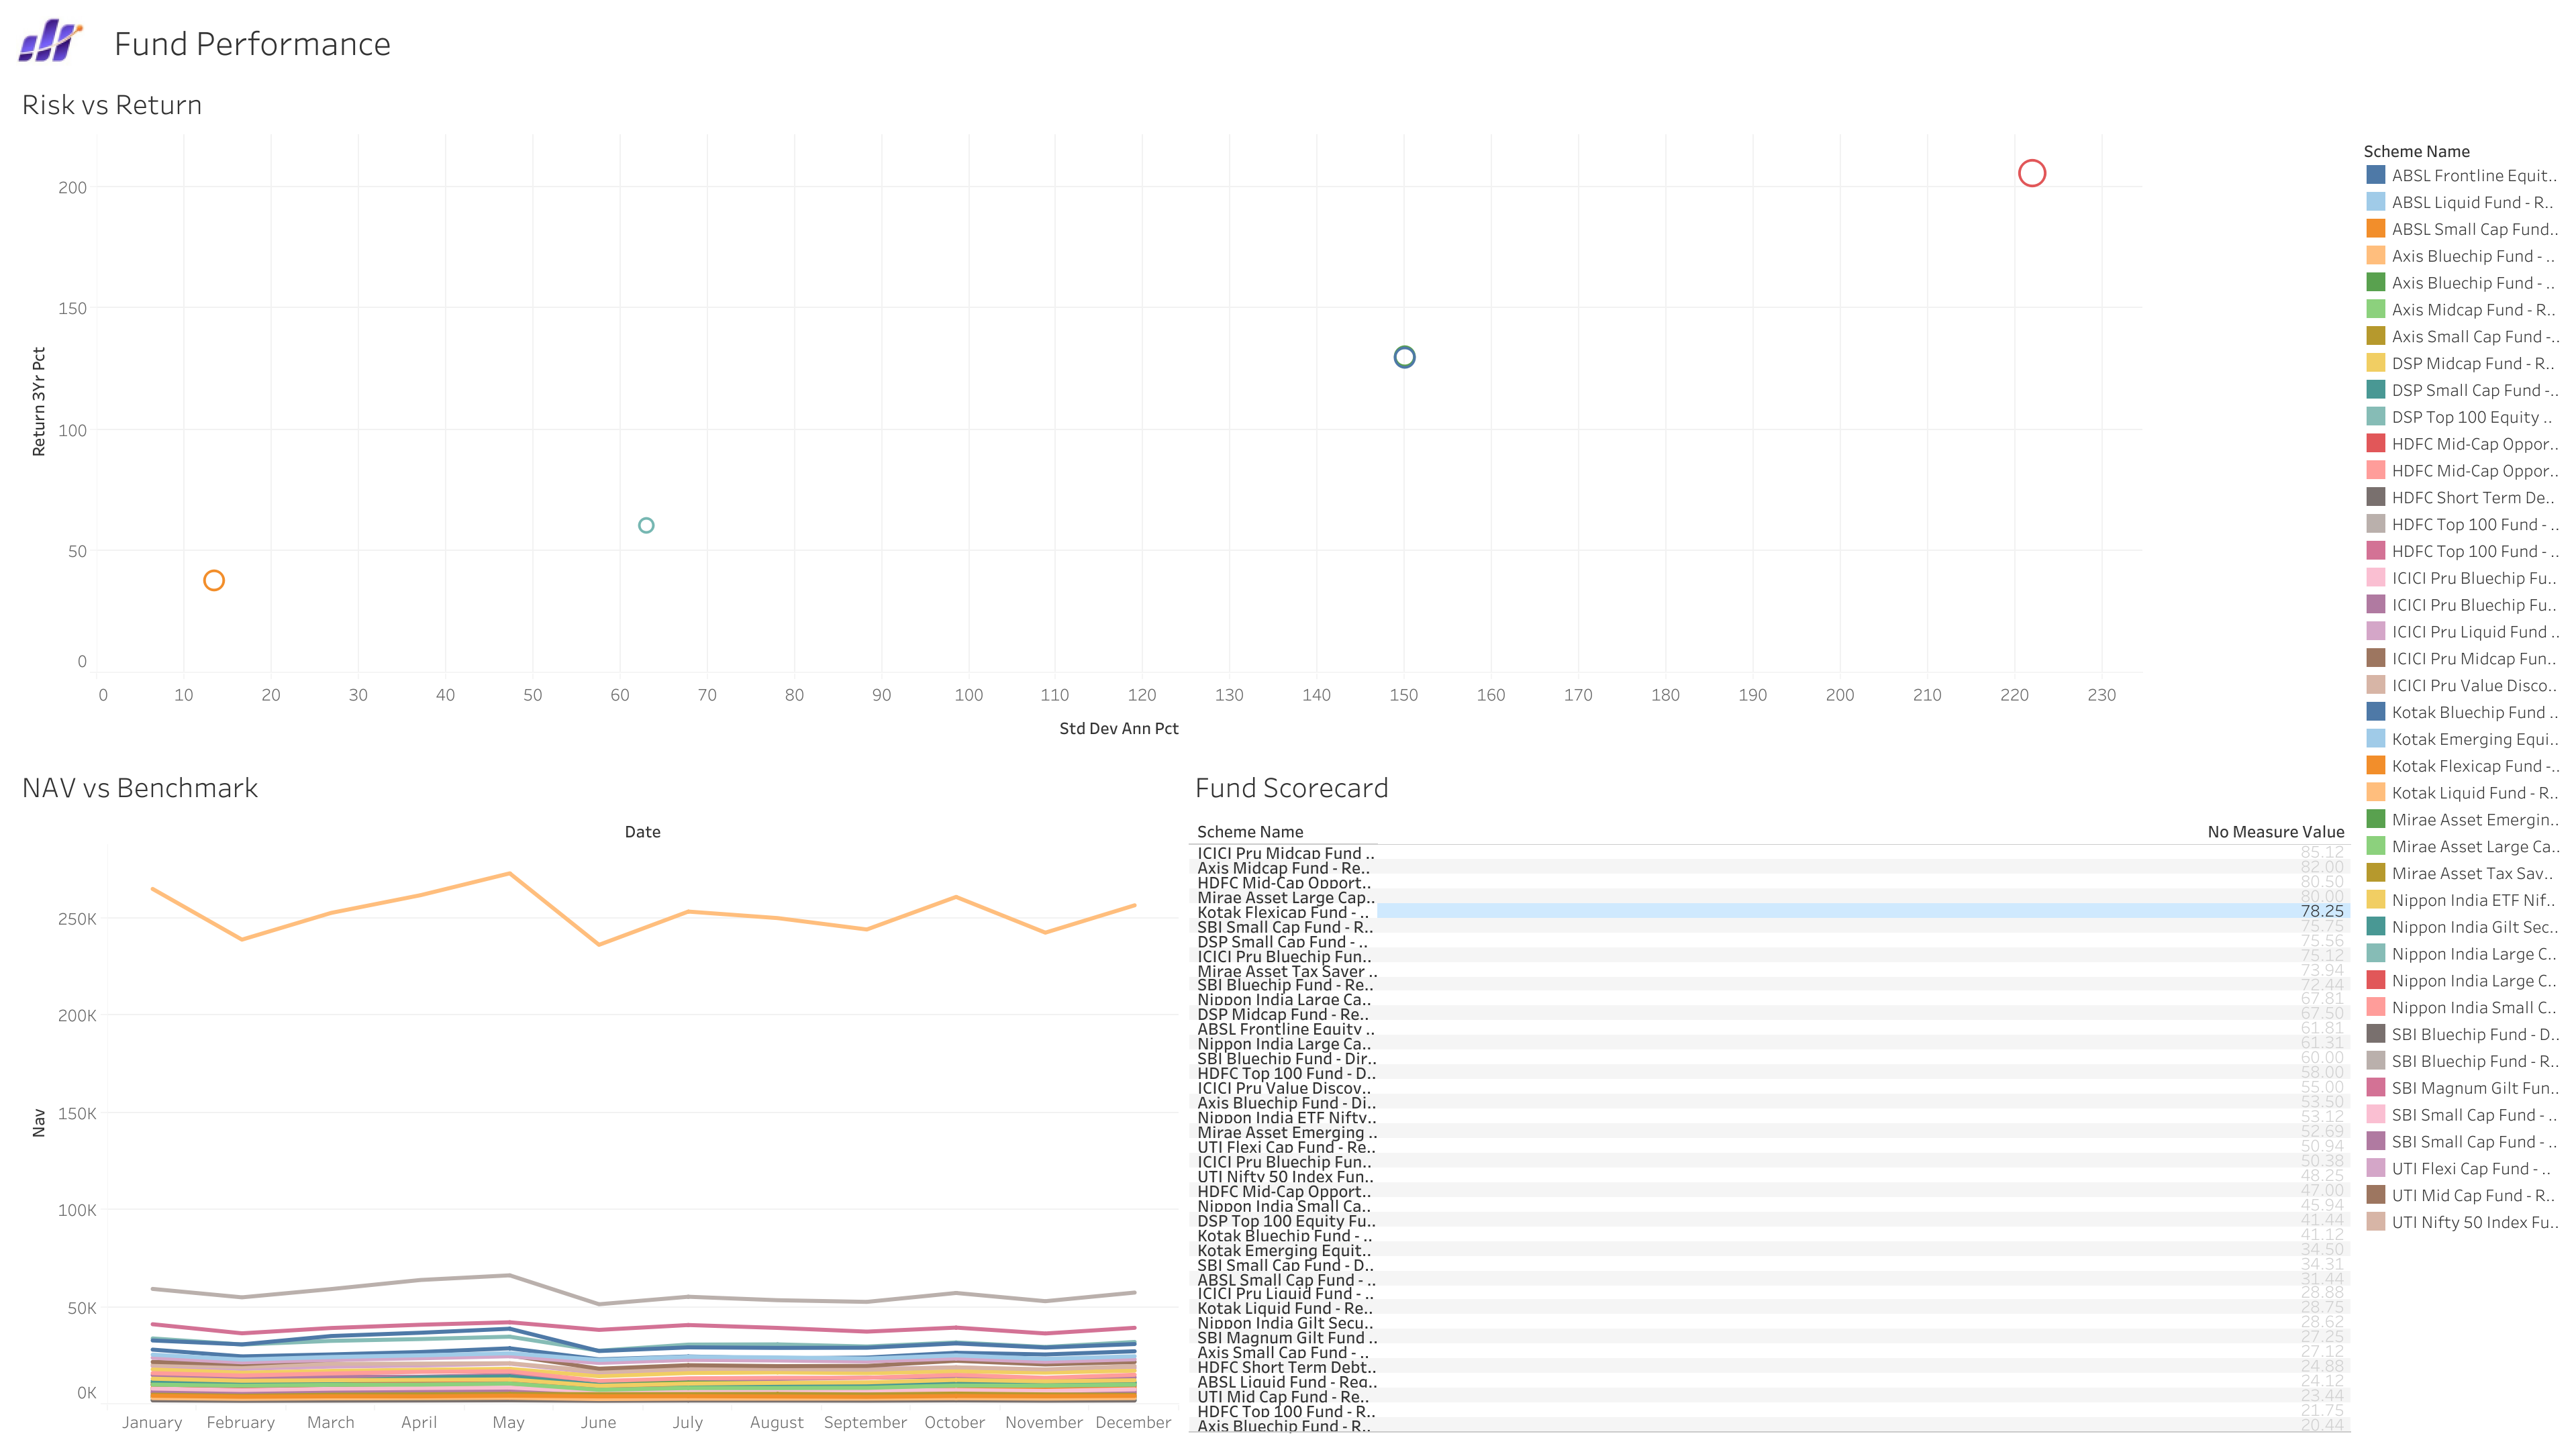

The page's visual inventory and layout, read from the dashboard file:
{"tool":"tableau","page":{"name":"Dashboard 2","canvas":[1920,1080],"ordinal":1},"visuals":[{"type":"image","param":"Image/BS.jpeg","box":[8,8,70,45]},{"type":"title","box":[78,8,1834,45]},{"type":"worksheet","title":"Risk vs Return","mark":"Automatic","rows":["return_3yr_pct"],"cols":["std_dev_ann_pct"],"box":[8,53,1591.8,509.5]},{"type":"legend","title":"Risk vs Return","param":"[federated.0dzpzi5054hmh21gta4ot05ik8uw].[sum:std_dev_ann_pct:qk]","box":[1756,53,156,22]},{"type":"legend","title":"Risk vs Return","param":"[federated.0dzpzi5054hmh21gta4ot05ik8uw].[none:risk_grade:nk]","box":[1756,75,156,22]},{"type":"legend","title":"NAV vs Benchmark","param":"[federated.1cpmg0r0vigzqv1d02csl108czaa].[none:scheme_name:nk]","box":[1756,97,156,826]},{"type":"worksheet","title":"NAV vs Benchmark","mark":"Automatic","rows":["nav"],"cols":["date"],"box":[8,562.5,873.8,509.5]},{"type":"worksheet","title":"Fund Scorecard","mark":"Automatic","rows":["scheme_name"],"box":[881.9,562.5,874.1,509.5]}]}

Visuals, with their boxes in screenshot pixels (x1, y1, x2, y2), scaled from the page's 1920x1080 canvas onto the 2576x1448 screenshot:
image: <region>11, 11, 105, 71</region>
title: <region>105, 11, 2565, 71</region>
"Risk vs Return" worksheet: <region>11, 71, 2146, 754</region>
"Risk vs Return" legend: <region>2356, 71, 2565, 101</region>
"Risk vs Return" legend: <region>2356, 101, 2565, 130</region>
"NAV vs Benchmark" legend: <region>2356, 130, 2565, 1237</region>
"NAV vs Benchmark" worksheet: <region>11, 754, 1183, 1437</region>
"Fund Scorecard" worksheet: <region>1183, 754, 2356, 1437</region>
